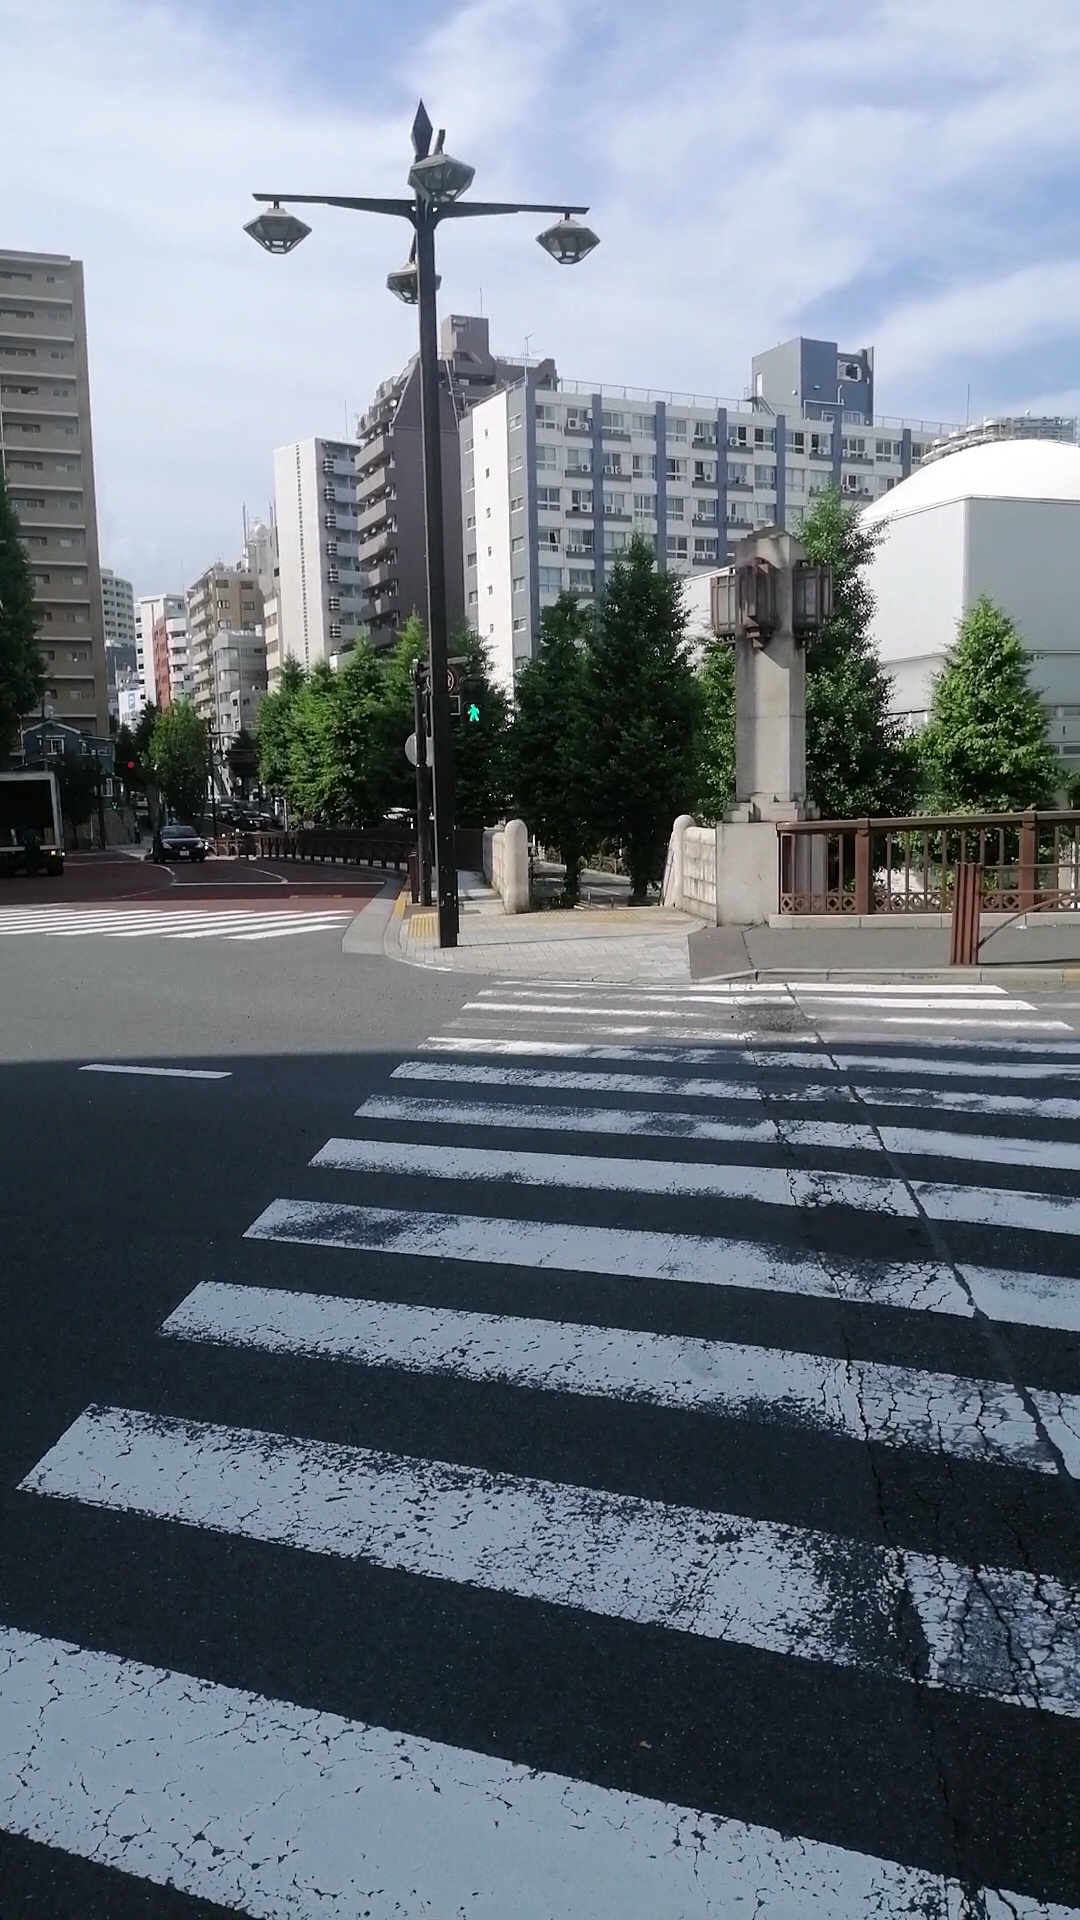green: (456, 675, 488, 731)
